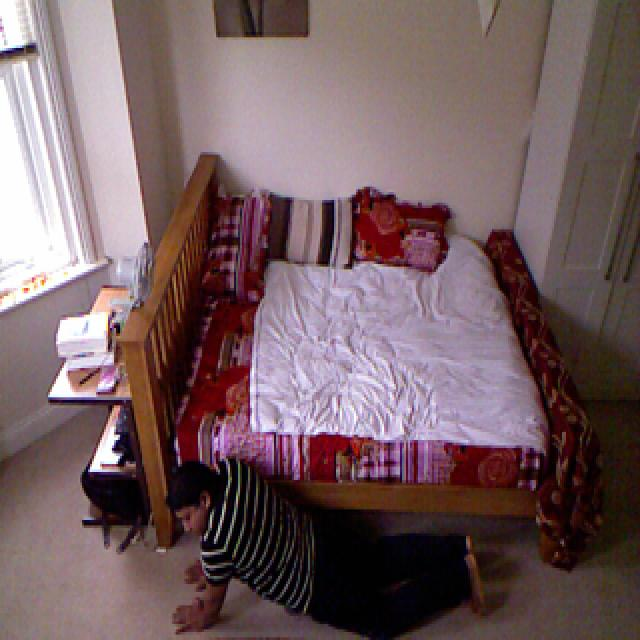crawling: (161, 448, 491, 640)
